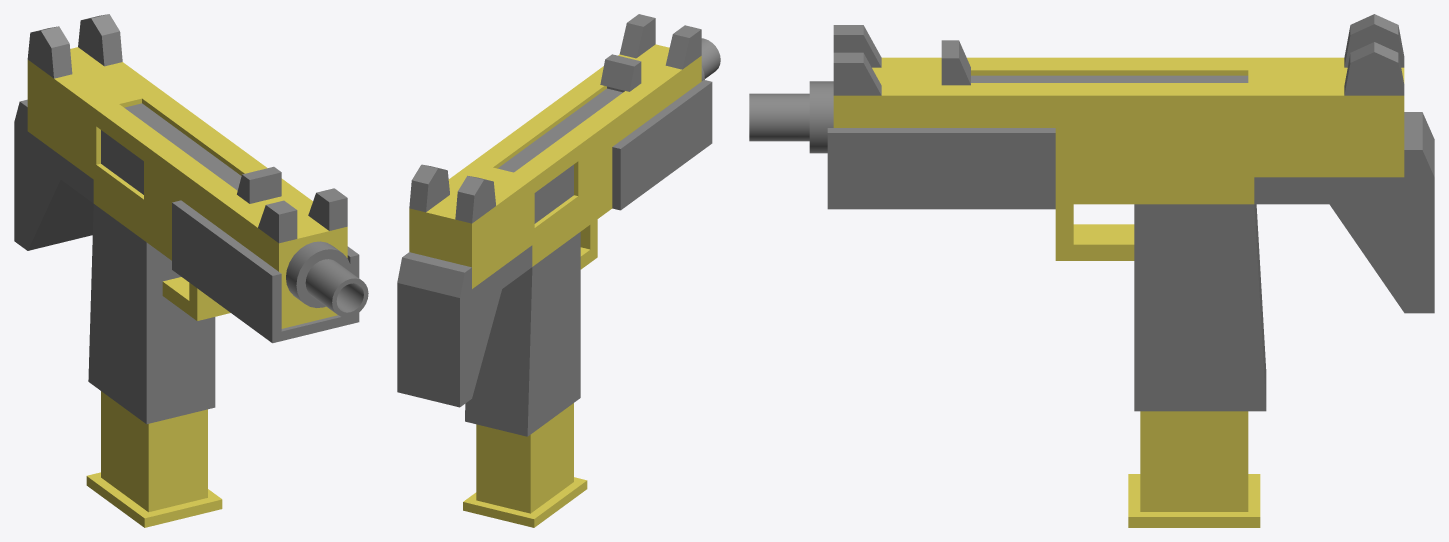
Rendered from uziGoldLong.glb.
3 renders of one model, left to right at view 1: azimuth 30°, elevation 25°; view 2: azimuth 150°, elevation 25°; view 3: azimuth 270°, elevation 25°, orthographic. The views are drawn at different scales.
Visible parts, largest first — view 1: Mesh4 Group5 Group1 Model, Mesh2 Group3 Group1 Model, Mesh3 Group4 Group1 Model, Mesh1 Group2 Group1 Model; view 2: Mesh4 Group5 Group1 Model, Mesh3 Group4 Group1 Model, Mesh2 Group3 Group1 Model, Mesh1 Group2 Group1 Model; view 3: Mesh4 Group5 Group1 Model, Mesh3 Group4 Group1 Model, Mesh2 Group3 Group1 Model, Mesh1 Group2 Group1 Model.
Boxes of the visible parts, x1,y1,x2,y2 form: Mesh4 Group5 Group1 Model: [27, 14, 368, 424]; Mesh2 Group3 Group1 Model: [86, 391, 222, 527]; Mesh3 Group4 Group1 Model: [14, 99, 93, 250]; Mesh1 Group2 Group1 Model: [237, 166, 281, 203]; Mesh4 Group5 Group1 Model: [409, 14, 720, 436]; Mesh3 Group4 Group1 Model: [397, 245, 532, 407]; Mesh2 Group3 Group1 Model: [463, 403, 587, 527]; Mesh1 Group2 Group1 Model: [600, 54, 641, 92]; Mesh4 Group5 Group1 Model: [749, 14, 1404, 411]; Mesh3 Group4 Group1 Model: [1254, 112, 1434, 313]; Mesh2 Group3 Group1 Model: [1128, 411, 1260, 527]; Mesh1 Group2 Group1 Model: [941, 40, 970, 85].
Bounding box in the file's own units: 0.0114 × 0.0522 × 0.0685.
